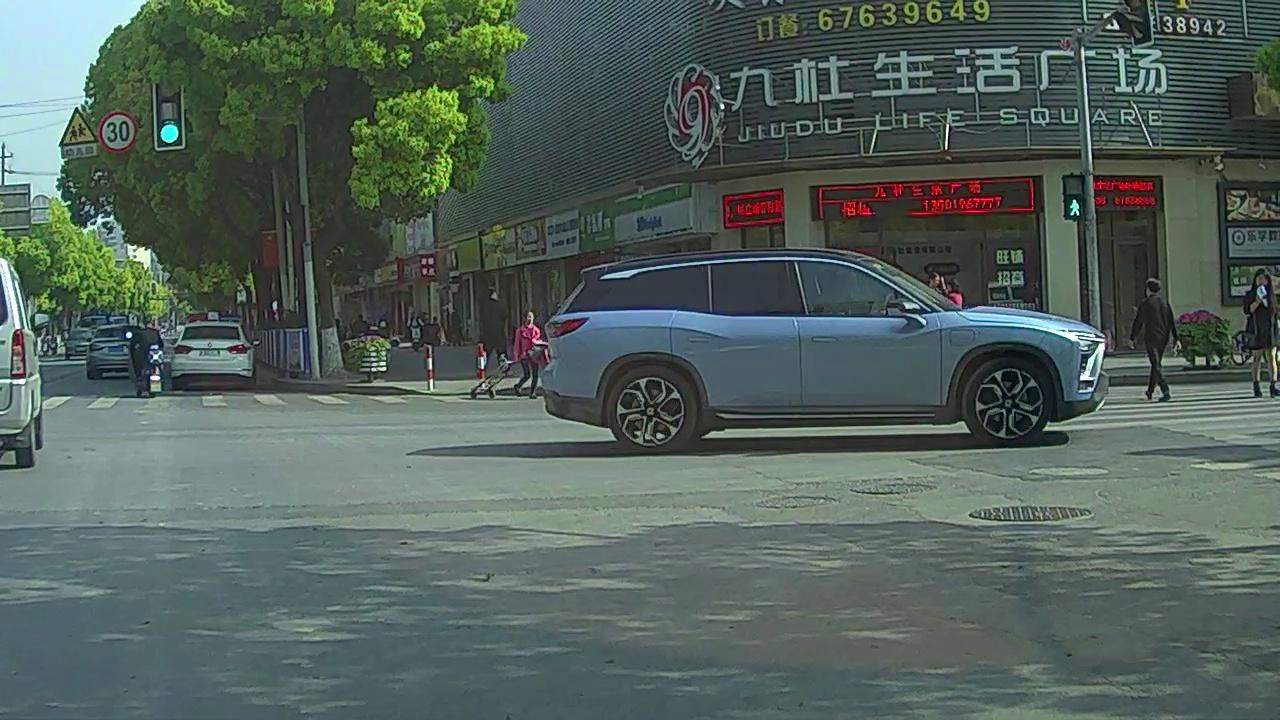traffic_light: (155, 79, 183, 149)
